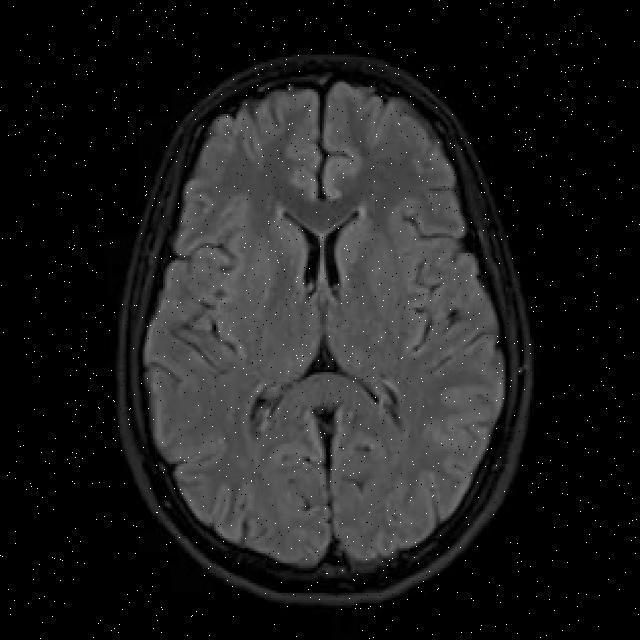No_Tumor: (119, 56, 532, 605)
